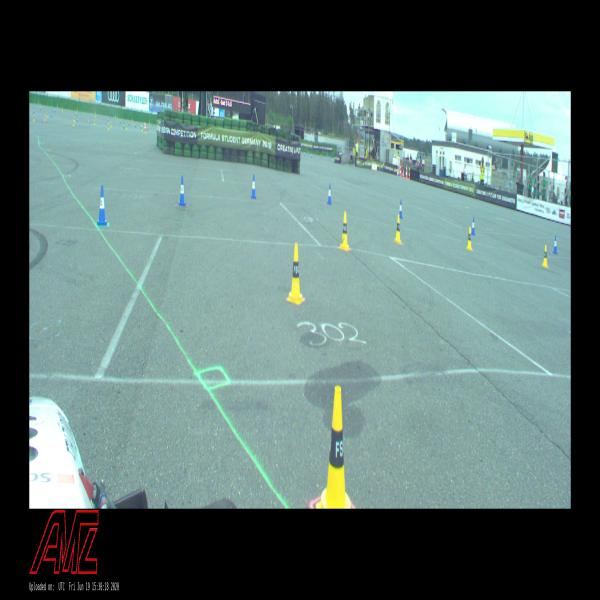blue_cone: (97, 186, 108, 226), (178, 176, 186, 206), (251, 174, 257, 199), (327, 184, 331, 204), (399, 200, 403, 219), (553, 235, 557, 254), (471, 218, 475, 235)
yellow_cone: (316, 386, 351, 508), (287, 243, 304, 304), (340, 211, 349, 249), (394, 214, 402, 244), (542, 246, 548, 268), (467, 226, 472, 250)
